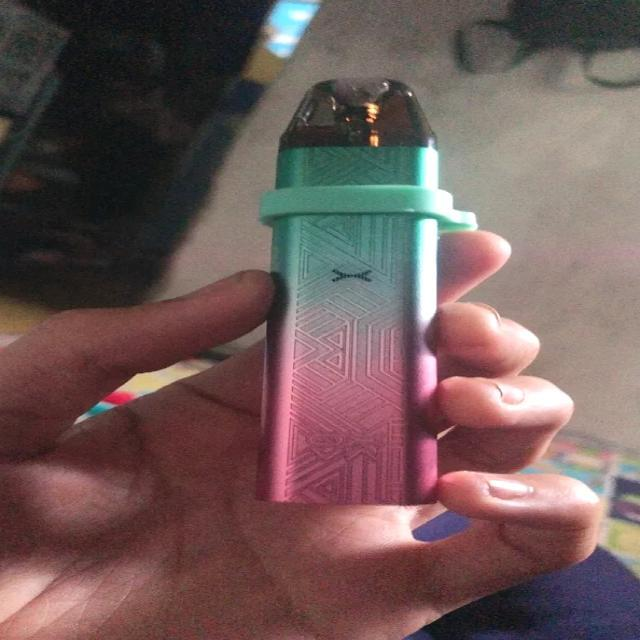Hazard: (259, 79, 439, 504)
